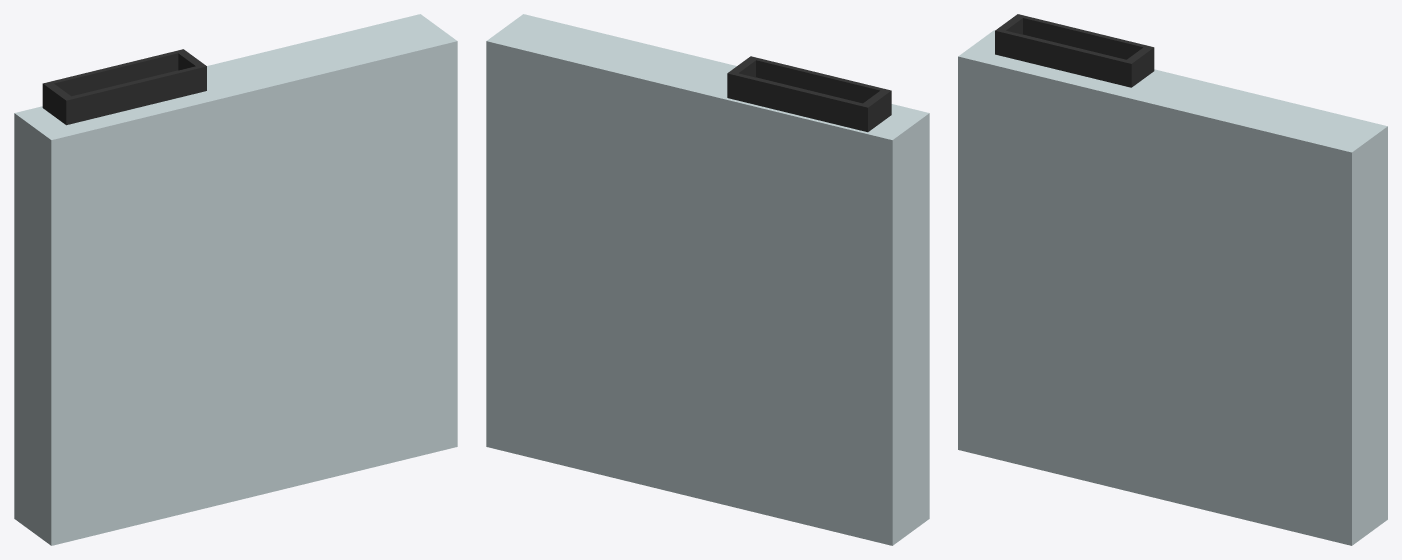
Rendered from SSD.obj.
The picture shows the model from 3 angles, left to right: view 1: azimuth 30°, elevation 25°; view 2: azimuth 150°, elevation 25°; view 3: azimuth 330°, elevation 25°; orthographic projection. The views are drawn at different scales.
Visible parts, largest first — view 1: SSD_Cube.001; view 2: SSD_Cube.001; view 3: SSD_Cube.001.
Part boxes in pixels (left/top/right/bottom): SSD_Cube.001: left=14, top=14, right=457, bottom=545; SSD_Cube.001: left=486, top=14, right=929, bottom=545; SSD_Cube.001: left=958, top=14, right=1387, bottom=545.
Size of the model in its own units: 1.44 by 1.46 by 0.2282.
